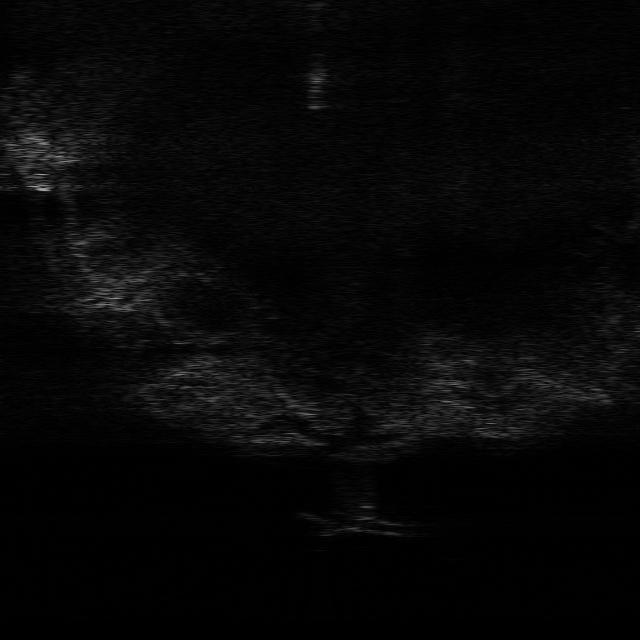plane: (298, 502, 412, 538)
